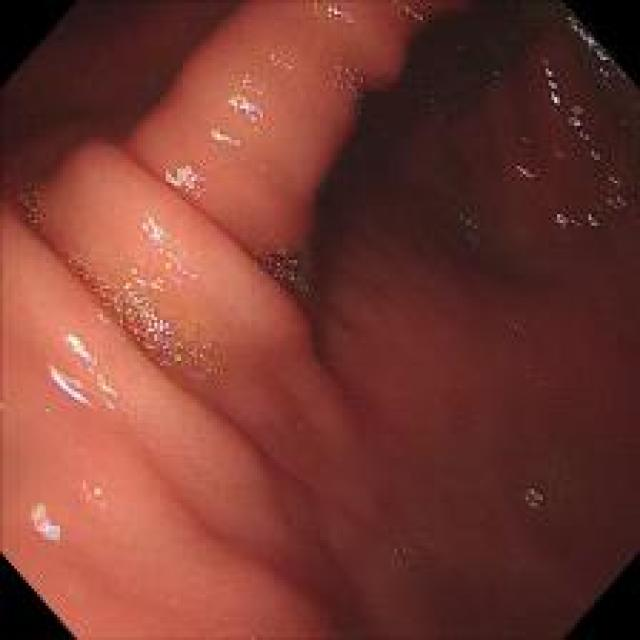bubbles: (99, 269, 235, 394), (50, 232, 104, 302), (12, 178, 49, 241), (264, 245, 306, 290), (330, 59, 365, 108), (422, 96, 442, 120), (504, 25, 519, 41), (489, 65, 504, 79)
color misalignment: (568, 106, 626, 236), (135, 319, 222, 381), (145, 206, 199, 291), (569, 24, 621, 84), (226, 79, 281, 128), (256, 248, 309, 295), (69, 475, 125, 515), (450, 205, 485, 255), (539, 56, 566, 116), (171, 158, 209, 199), (58, 248, 96, 286), (266, 42, 302, 80), (512, 150, 542, 192), (18, 188, 45, 229), (516, 478, 545, 516), (31, 501, 60, 536), (315, 5, 366, 24), (211, 122, 240, 154), (551, 211, 568, 230)
contrast: (288, 4, 599, 295), (11, 6, 239, 204)
specularity: (48, 332, 121, 422)
